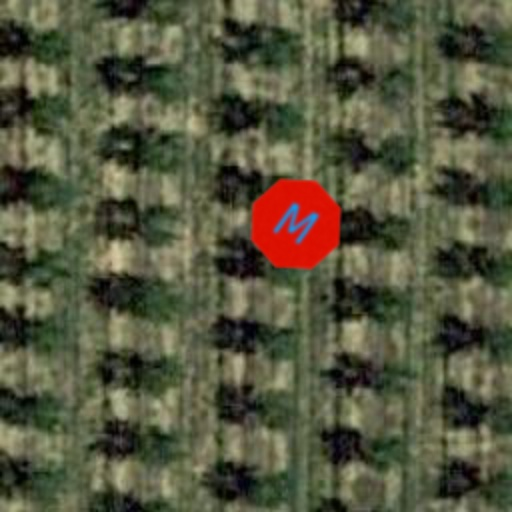octagon: (232, 160, 360, 288)
